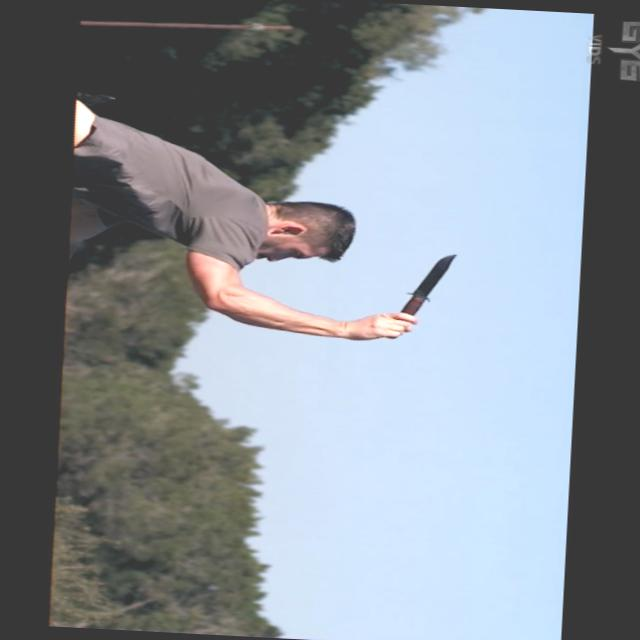knife: (353, 245, 464, 352)
